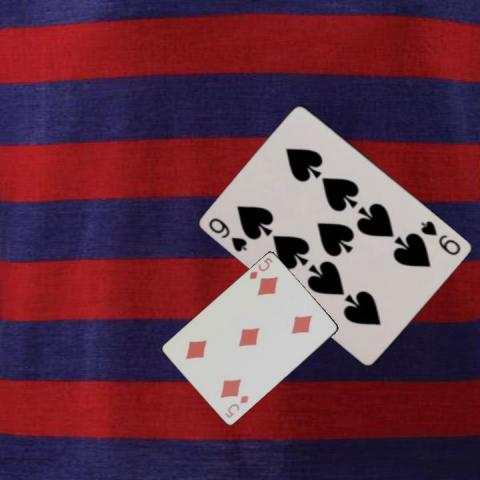5d: (221, 393, 250, 420), (246, 254, 274, 280)
9s: (418, 218, 463, 258), (206, 215, 249, 253)
